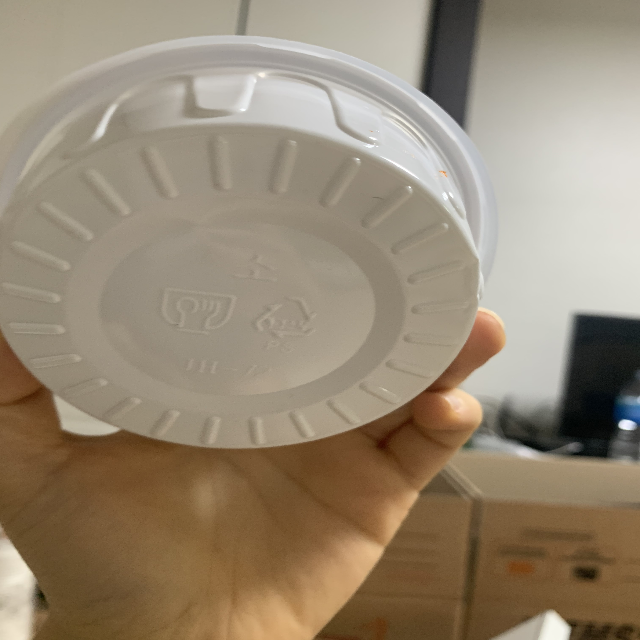ps: (251, 289, 317, 358)
